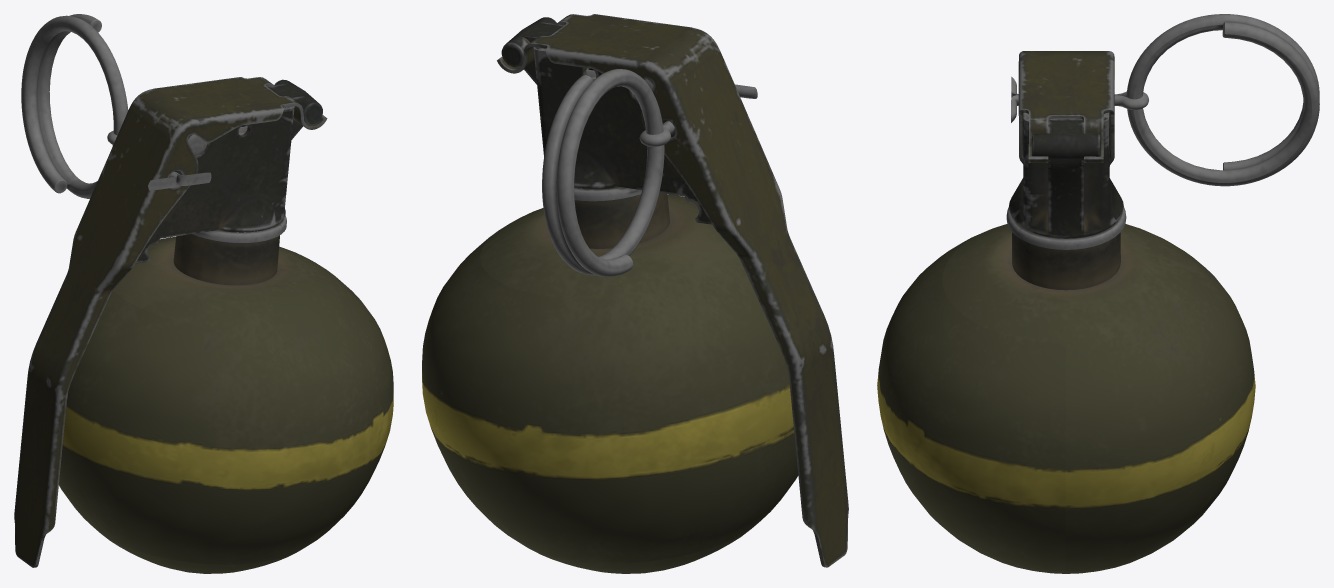
The model's file is weapon_gren_he.glb.
The picture shows the model from 3 angles, left to right: view 1: azimuth 30°, elevation 25°; view 2: azimuth 150°, elevation 25°; view 3: azimuth 270°, elevation 25°; orthographic projection. The views are drawn at different scales.
Visible parts, largest first — view 1: weapons/models/grenade/hegrenade/weapon_hegrenade.vmdl_c.bod; view 2: weapons/models/grenade/hegrenade/weapon_hegrenade.vmdl_c.bod; view 3: weapons/models/grenade/hegrenade/weapon_hegrenade.vmdl_c.bod.
Boxes of the visible parts, x1,y1,x2,y2 form: weapons/models/grenade/hegrenade/weapon_hegrenade.vmdl_c.bod: [14, 14, 393, 573]; weapons/models/grenade/hegrenade/weapon_hegrenade.vmdl_c.bod: [422, 14, 848, 573]; weapons/models/grenade/hegrenade/weapon_hegrenade.vmdl_c.bod: [877, 14, 1319, 573].
Size of the model in its own units: 0.0925 by 0.127 by 0.0987.
Materials: 1 (1 with a texture image).
